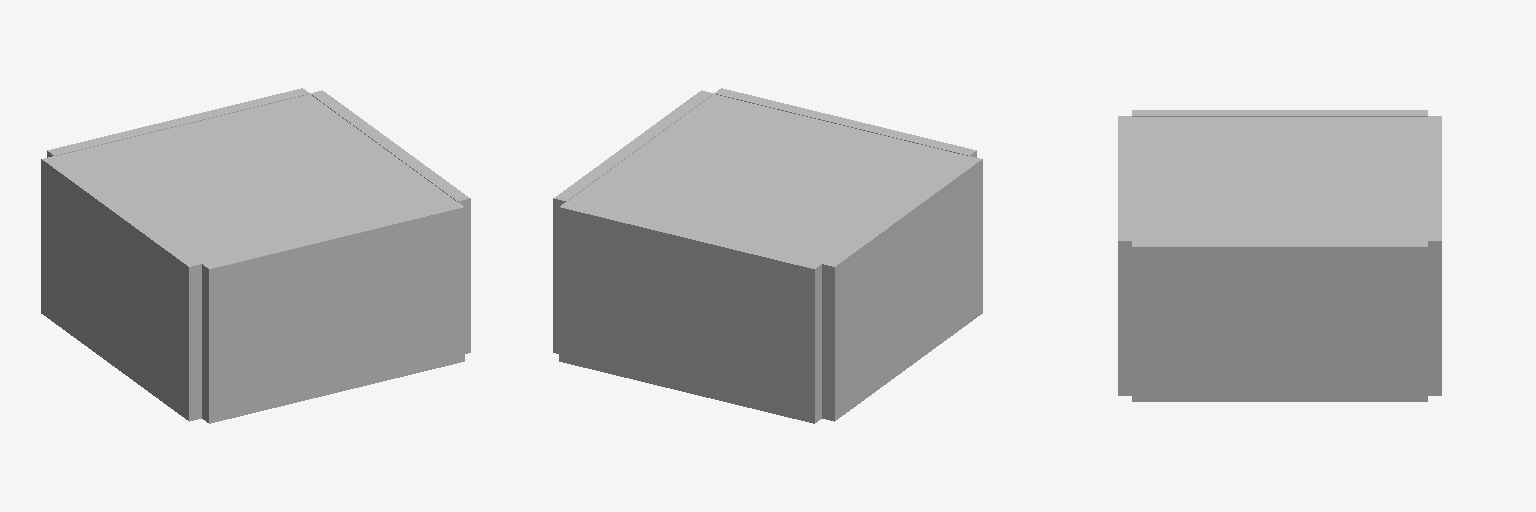
Rendered from level1walls.obj.
3 views of the same model, side by side, from view 1: azimuth 30°, elevation 25°; view 2: azimuth 150°, elevation 25°; view 3: azimuth 270°, elevation 25° (orthographic).
Parts seen in each view (by area): view 1: Cube.002_Cube.004, Cube.016_Cube.018, Cube.003_Cube.005, Cube_Cube.002, Cube.001_Cube.003; view 2: Cube.001_Cube.003, Cube.016_Cube.018, Cube.003_Cube.005, Cube_Cube.002, Cube.002_Cube.004; view 3: Cube_Cube.002, Cube.016_Cube.018, Cube.001_Cube.003, Cube.002_Cube.004, Cube.003_Cube.005.
Part boxes in pixels (left/top/right/bottom): Cube.002_Cube.004: left=202, top=202, right=464, bottom=423; Cube.016_Cube.018: left=55, top=94, right=456, bottom=263; Cube.003_Cube.005: left=41, top=156, right=201, bottom=421; Cube_Cube.002: left=310, top=90, right=470, bottom=353; Cube.001_Cube.003: left=47, top=88, right=309, bottom=157; Cube.001_Cube.003: left=559, top=202, right=821, bottom=423; Cube.016_Cube.018: left=567, top=94, right=968, bottom=263; Cube.003_Cube.005: left=822, top=156, right=982, bottom=421; Cube_Cube.002: left=553, top=90, right=713, bottom=353; Cube.002_Cube.004: left=714, top=88, right=976, bottom=157; Cube_Cube.002: left=1132, top=241, right=1427, bottom=401; Cube.016_Cube.018: left=1132, top=117, right=1427, bottom=240; Cube.001_Cube.003: left=1428, top=116, right=1441, bottom=395; Cube.002_Cube.004: left=1118, top=116, right=1131, bottom=395; Cube.003_Cube.005: left=1132, top=110, right=1427, bottom=116.
Bounding box in the file's own units: 44 × 23.08 × 44.